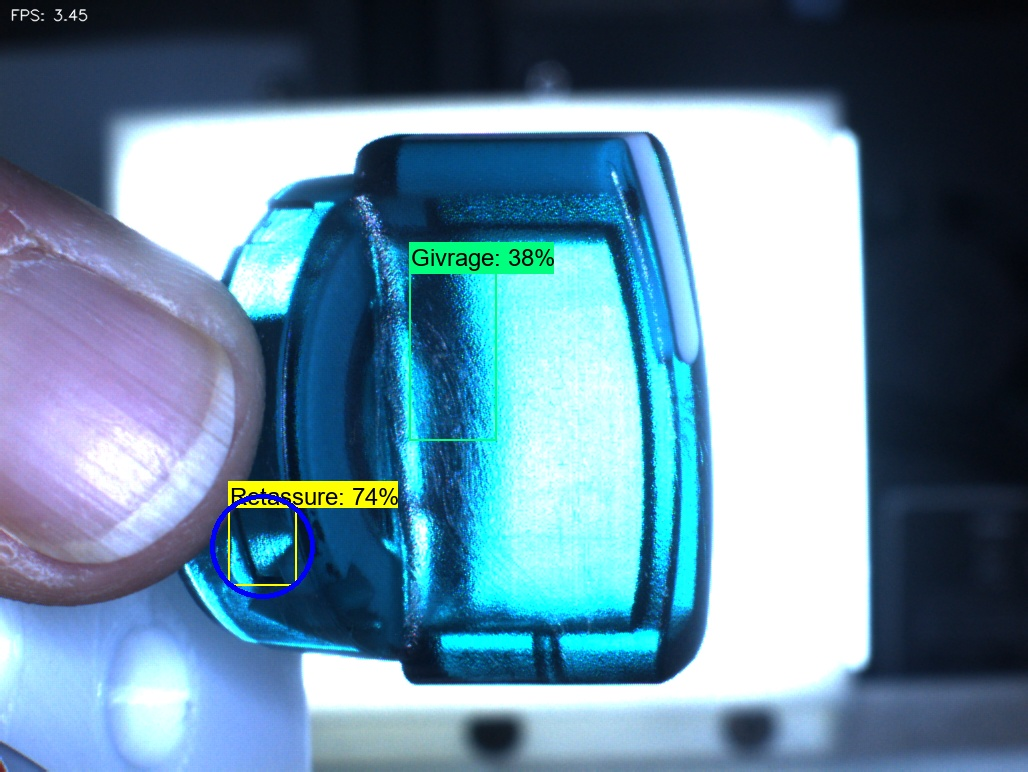Bulle: (509, 593, 590, 720)
